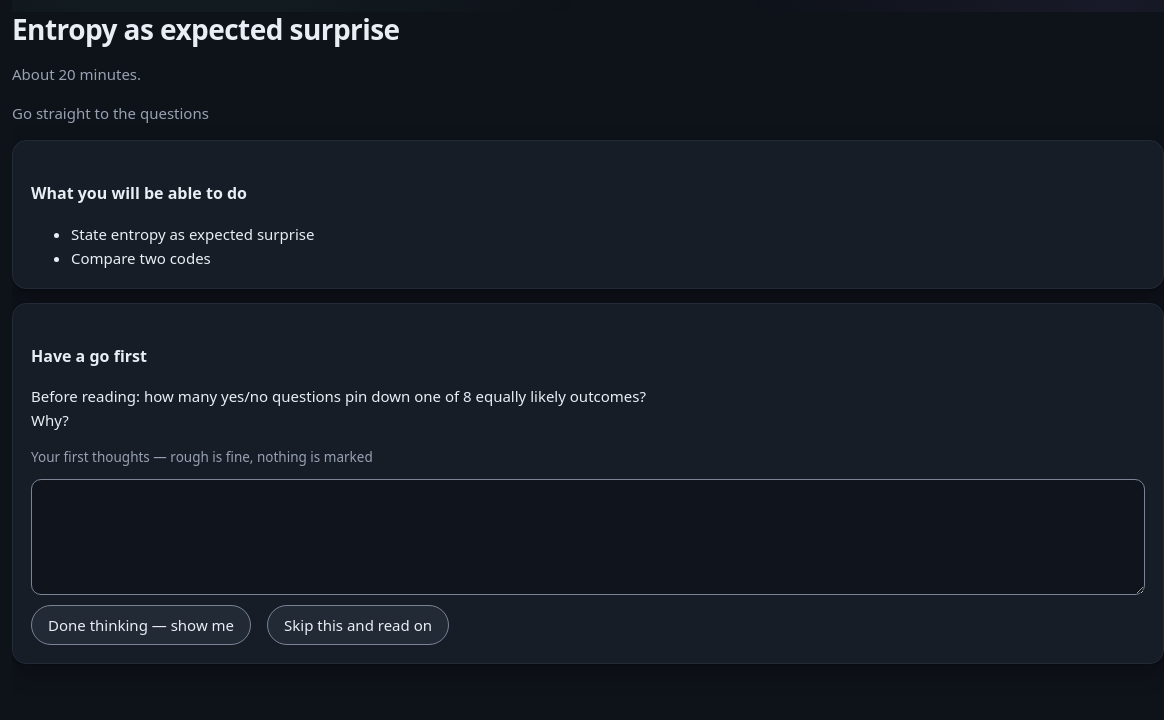
the warm-up gate › reveals the explanation on the same tick the attempt is made, without waiting for the save
Type "three questions" into the text box with test id "warm-up-answer" at (588, 537), box x1=31 y1=479 x2=1145 y2=595
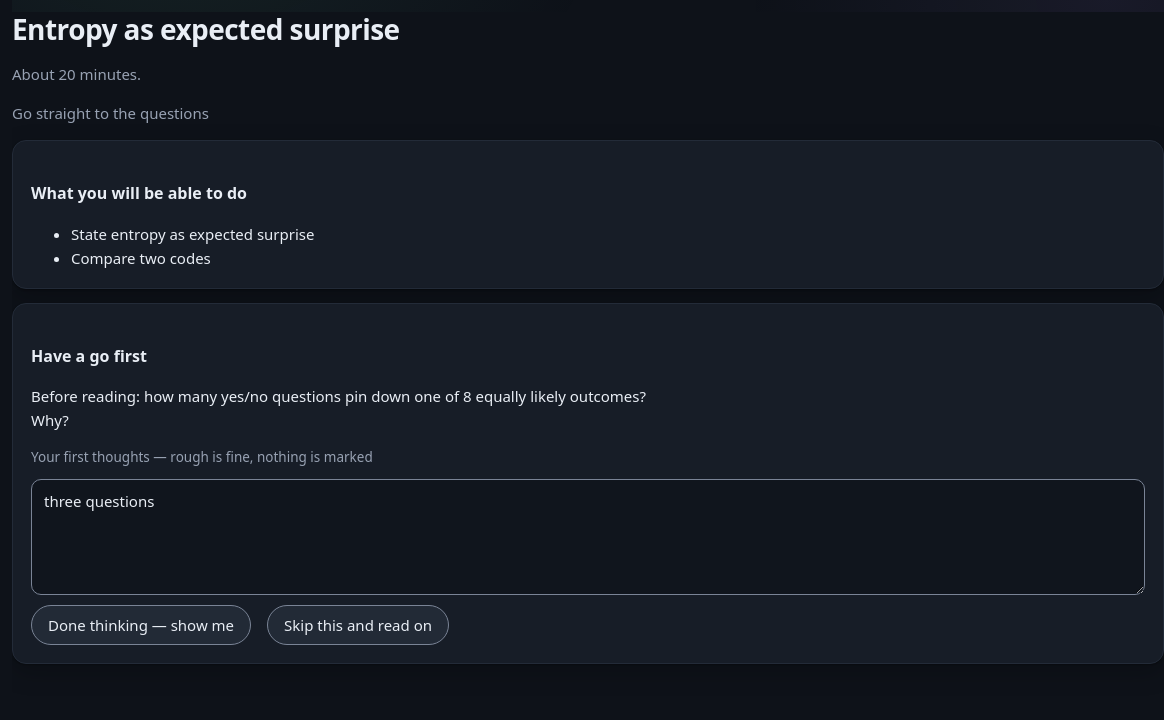
Click the button with test id "warm-up-submit" at (141, 625), box x1=31 y1=605 x2=251 y2=645
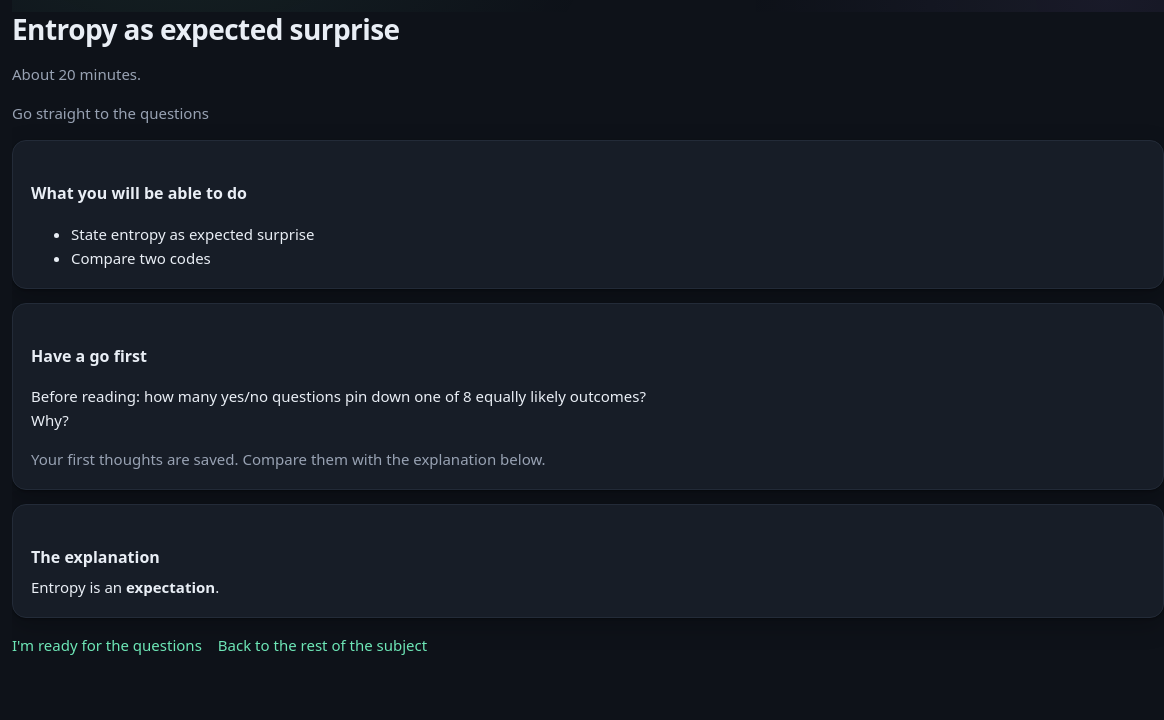
Check: the element with test id "explanation" is shown, box x1=12 y1=504 x2=1163 y2=618
